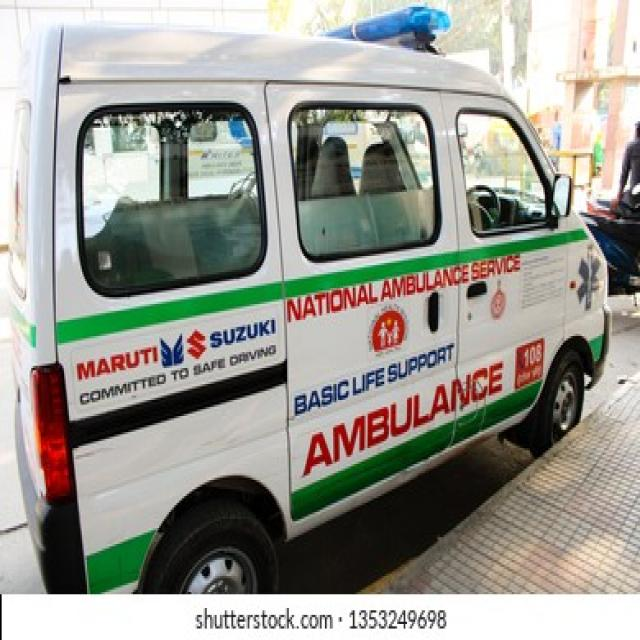ambulance: (11, 7, 613, 596)
